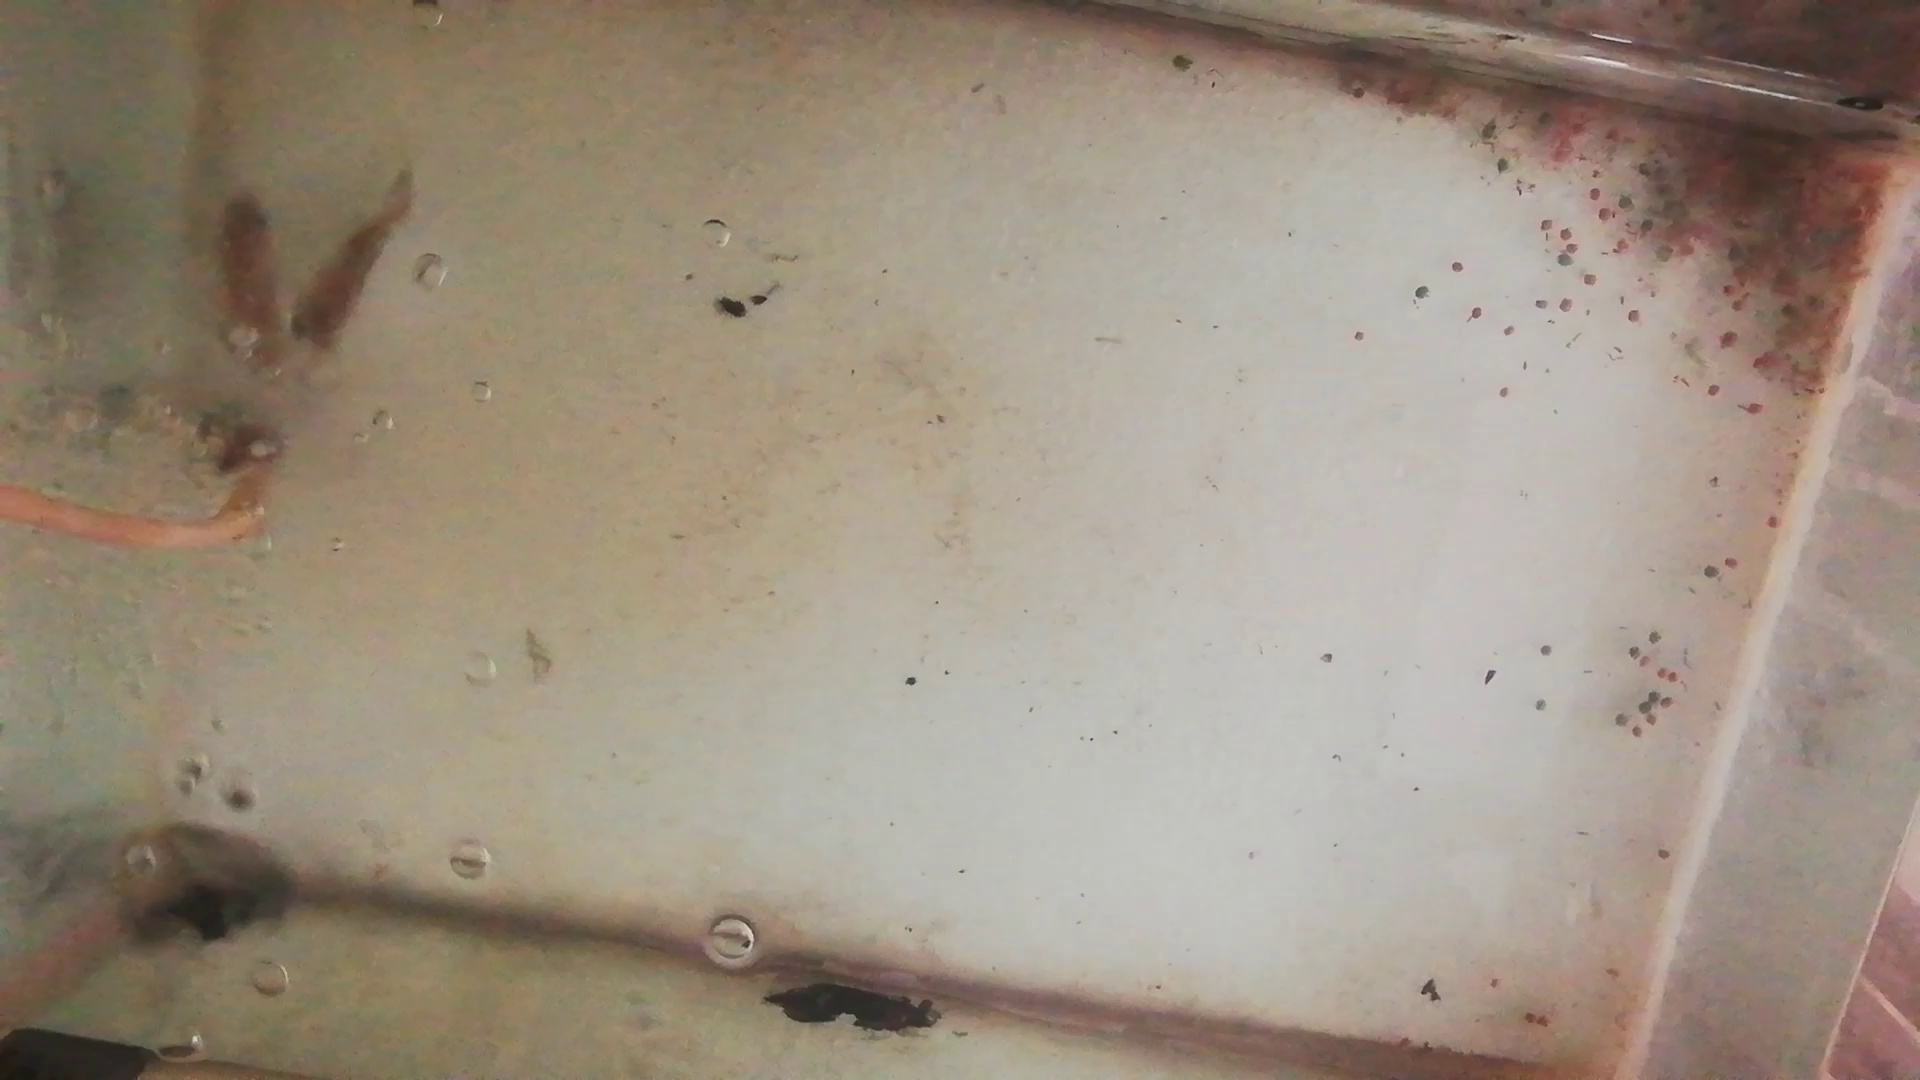fish: (291, 175, 425, 347), (207, 189, 291, 365)
